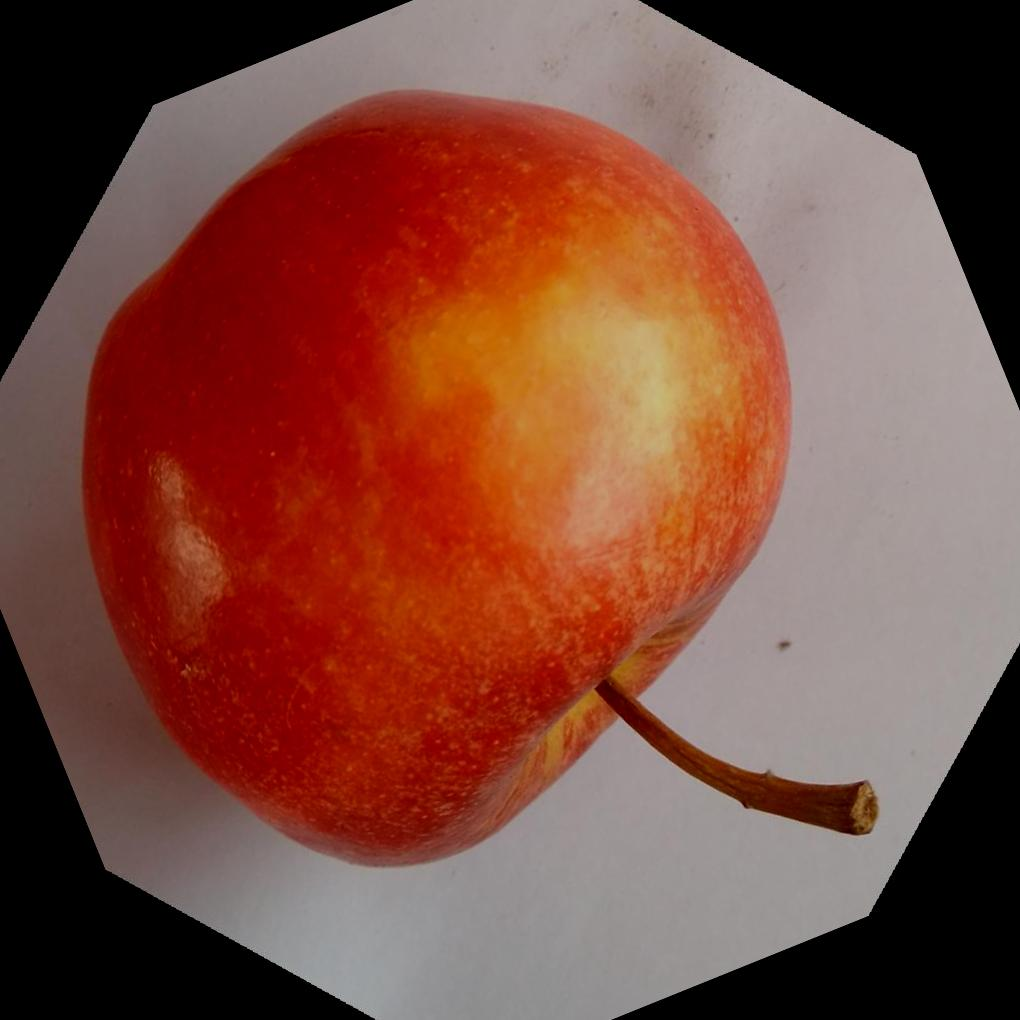FreshGuava: (78, 89, 877, 874)
